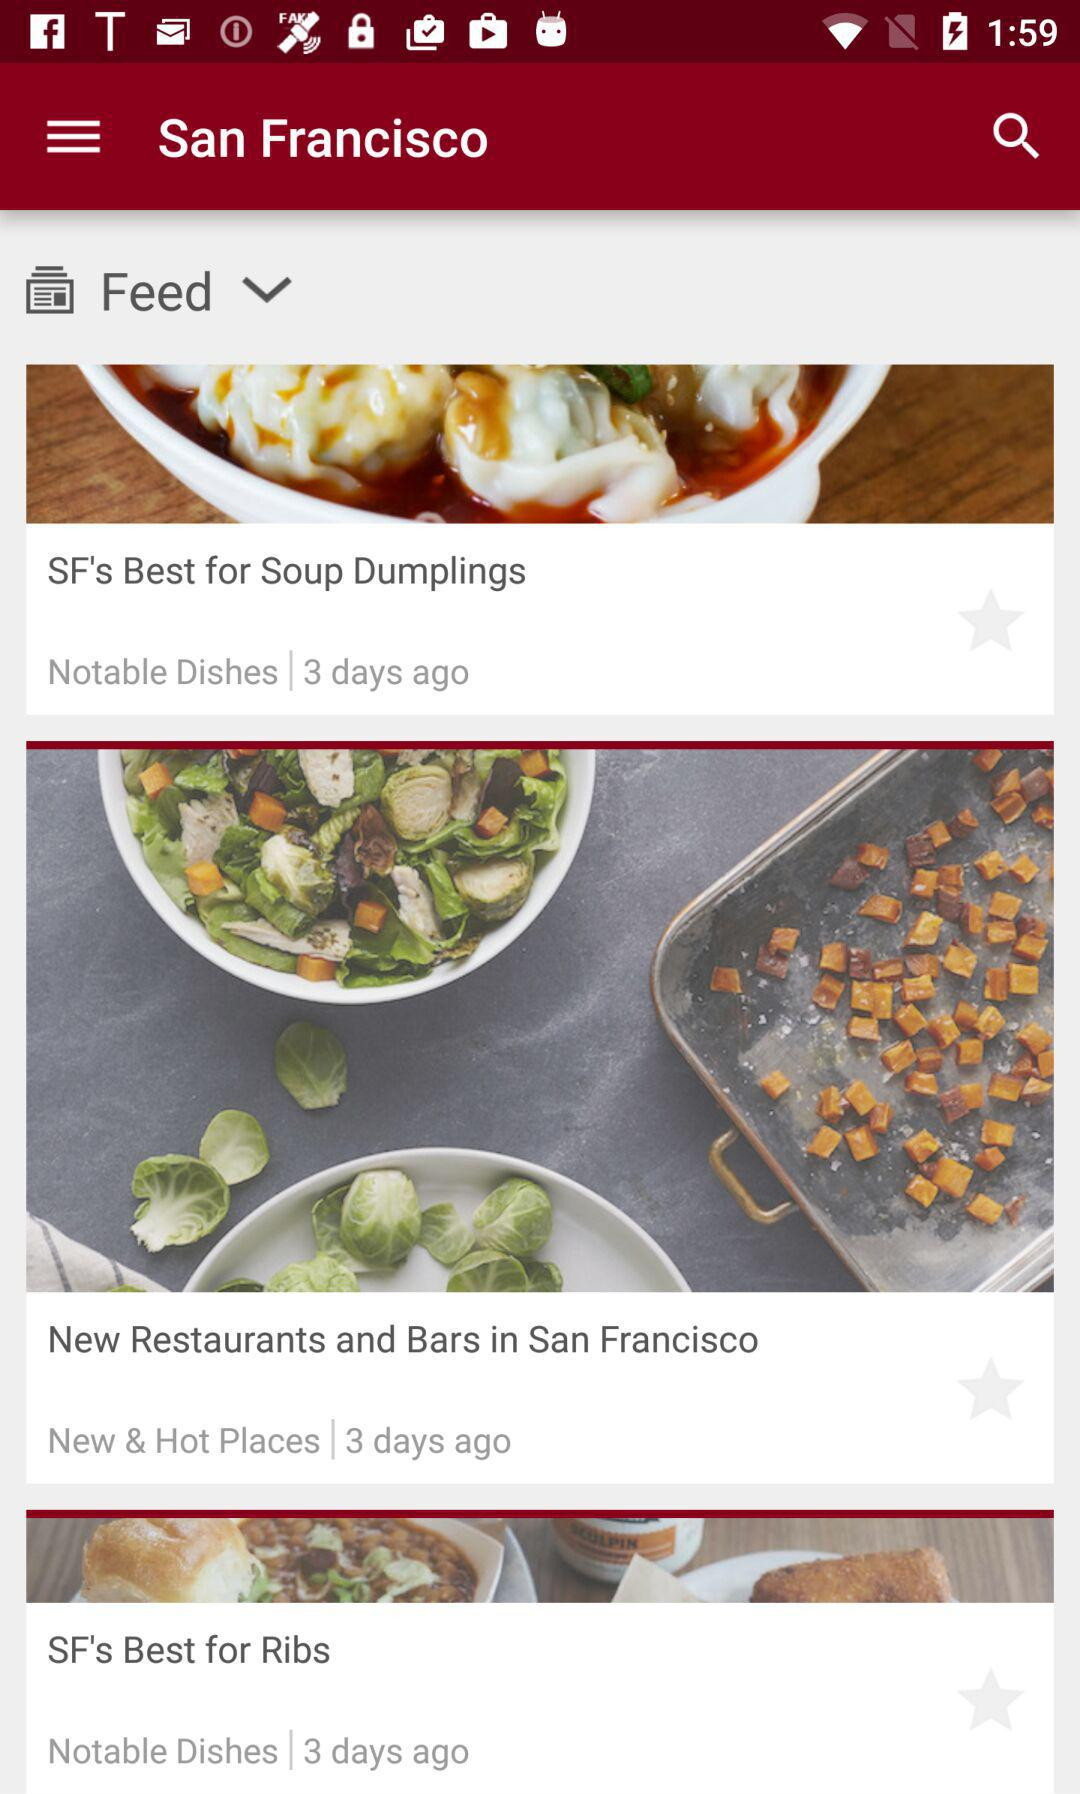Card: (20, 736, 1058, 1489), (20, 359, 1062, 721), (17, 1502, 1060, 1794)
Icon: (954, 1357, 1026, 1422), (958, 1666, 1026, 1734), (956, 588, 1025, 654), (26, 267, 76, 317), (992, 111, 1040, 161), (46, 119, 102, 155), (242, 277, 293, 305)
Image: (26, 741, 1054, 1293), (27, 365, 1054, 524), (27, 1510, 1054, 1602)
Text: (50, 1322, 758, 1354), (49, 555, 528, 593), (159, 118, 488, 160), (49, 1633, 331, 1665), (50, 1426, 322, 1456), (50, 1736, 281, 1766), (50, 657, 279, 687), (302, 1736, 471, 1773), (304, 657, 470, 695), (346, 1426, 512, 1462), (102, 270, 211, 313)
Toolbar: (1, 62, 1080, 210)
UpperTaskBar: (1, 1, 1080, 64)
